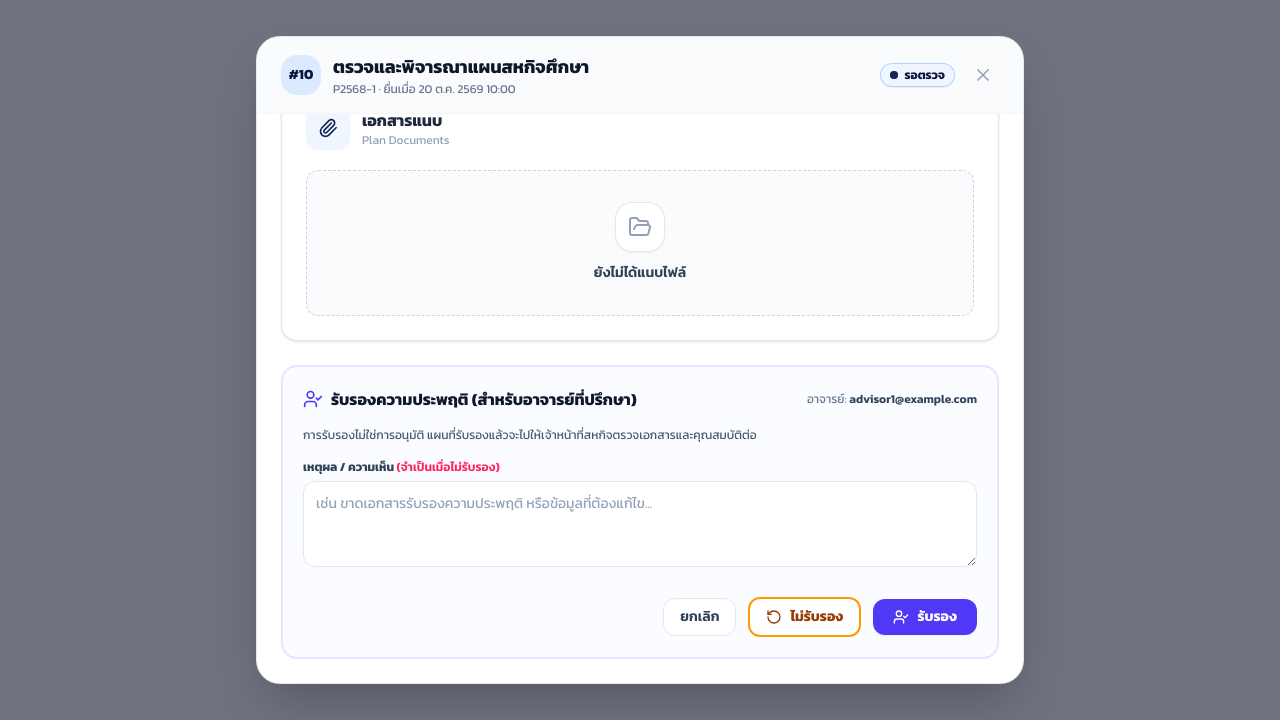
advisor endorse form (#147) › not endorsing without a reason is stopped before the API
(page scrolled)
Click the button "ไม่รับรอง" at [805, 617], box [748,597,861,637]
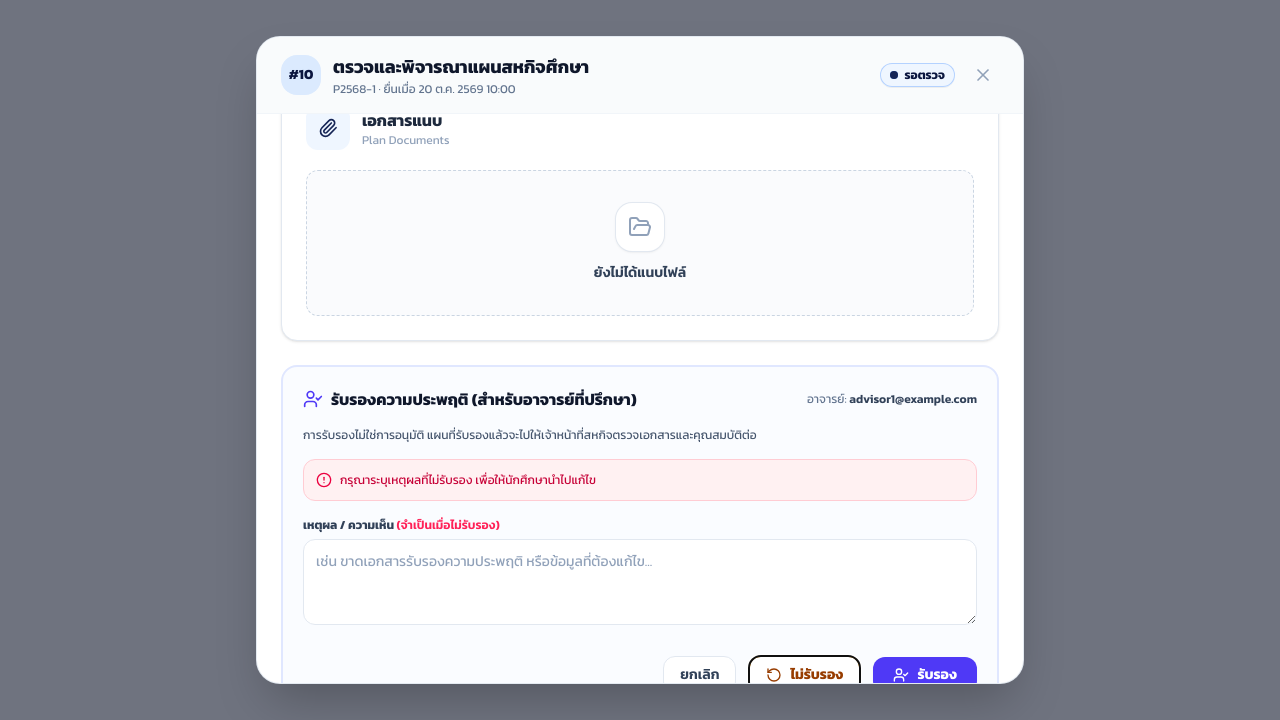
Expected: the message shows "กรุณาระบุเหตุผลที่ไม่รับรอง", [340,471,596,489]
